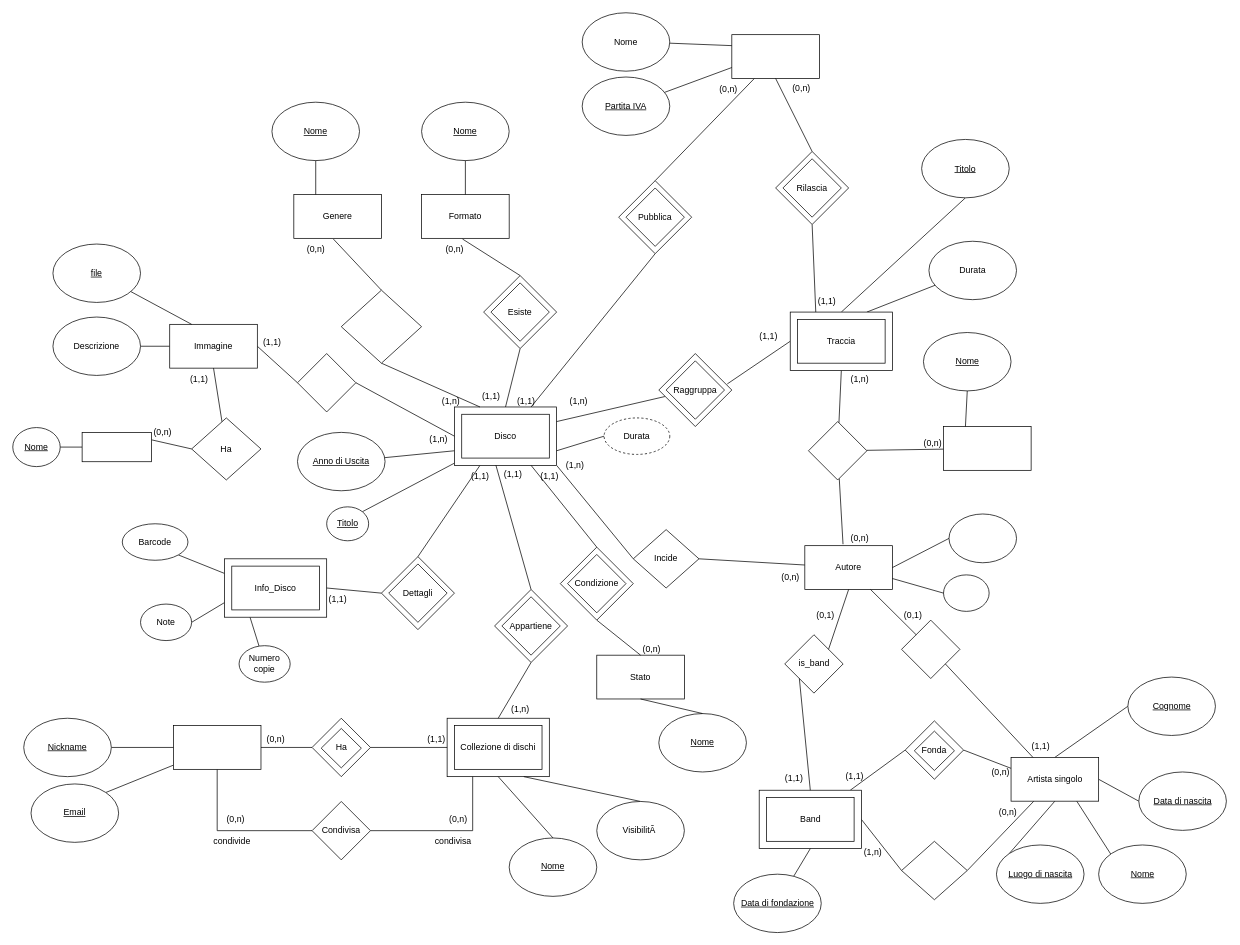
Some shapes in this 1240 by 945 pixel diagram are drawn without their labels. The box of each missing label's shape, as (x1, y1, x2, y2) in pixels:
associato: (297, 353, 356, 412)
Classificazione: (341, 289, 422, 363)
Collezionista: (173, 725, 261, 769)
Costituito: (901, 841, 967, 900)
Etichetta: (731, 34, 819, 78)
is_singolo: (901, 619, 960, 679)
Nome d'arte: (948, 513, 1017, 563)
Produce: (808, 421, 867, 480)
Ruolo: (943, 426, 1031, 470)
Tipo: (943, 574, 989, 611)
Tipologia: (81, 432, 151, 462)
